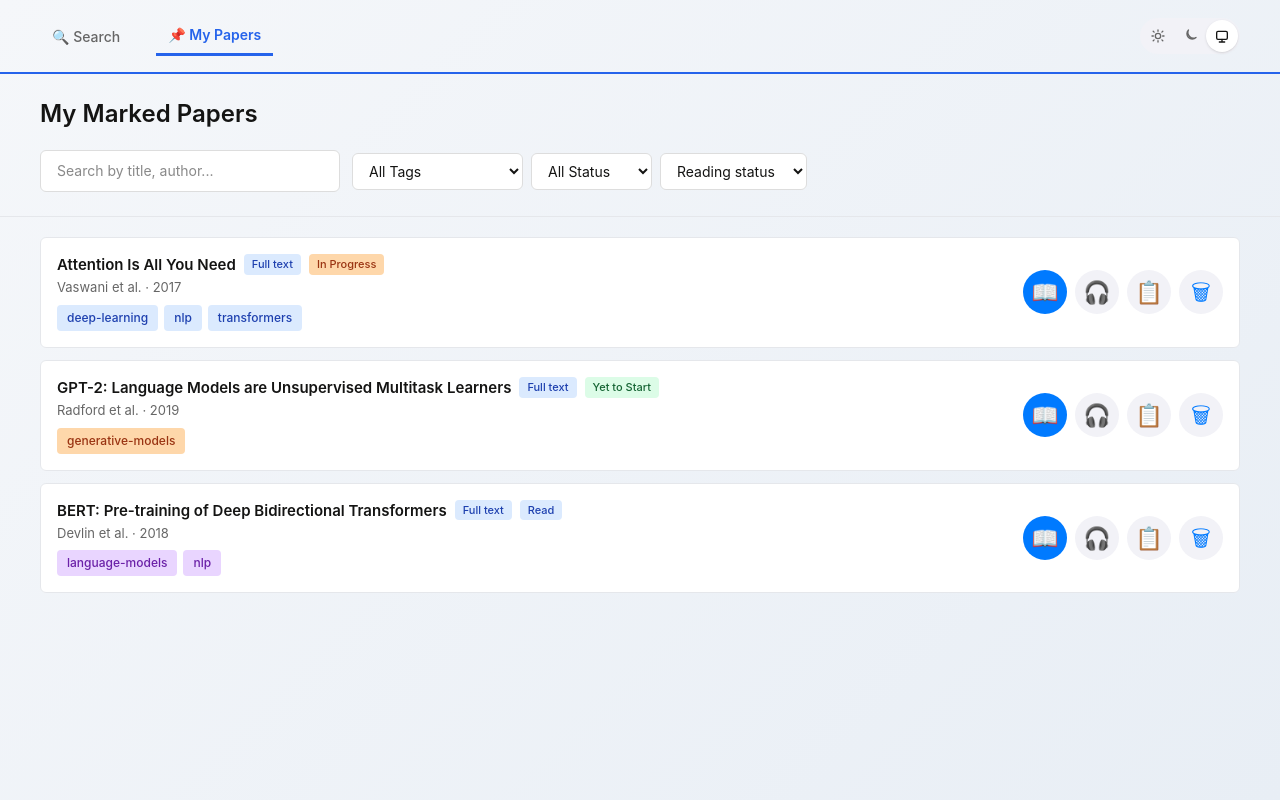
Test case: UX: My Papers library › When the user chooses Listen, Then they open the reader in Listen mode
expect the heading "My Marked Papers" is shown: met, box [40,99,258,128]
Click the link named "listen". click: {"x": 1097, "y": 292}
box: [1075,270,1119,314]
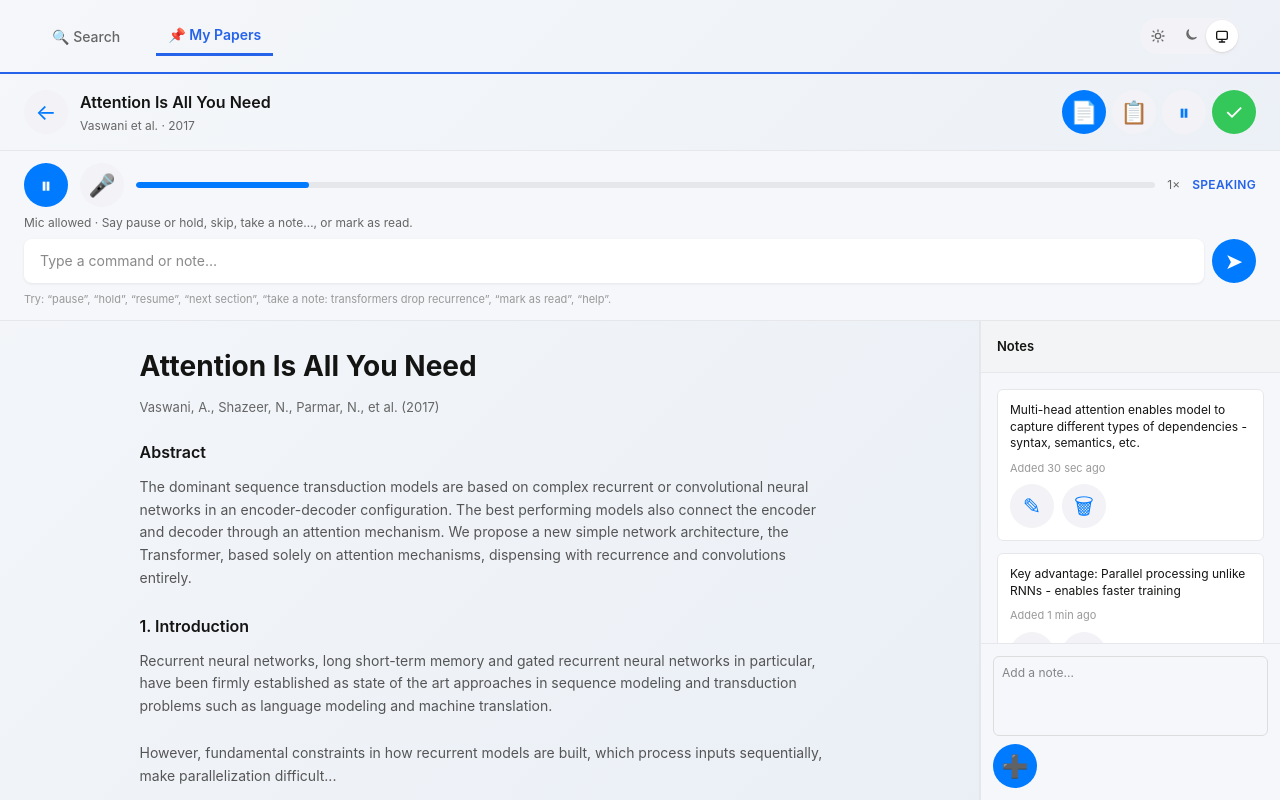
expect the field with placeholder "Type a command or note…" is shown: met, box [24,239,1204,283]
expect the button "🎤" is shown: met, box [80,163,124,207]
